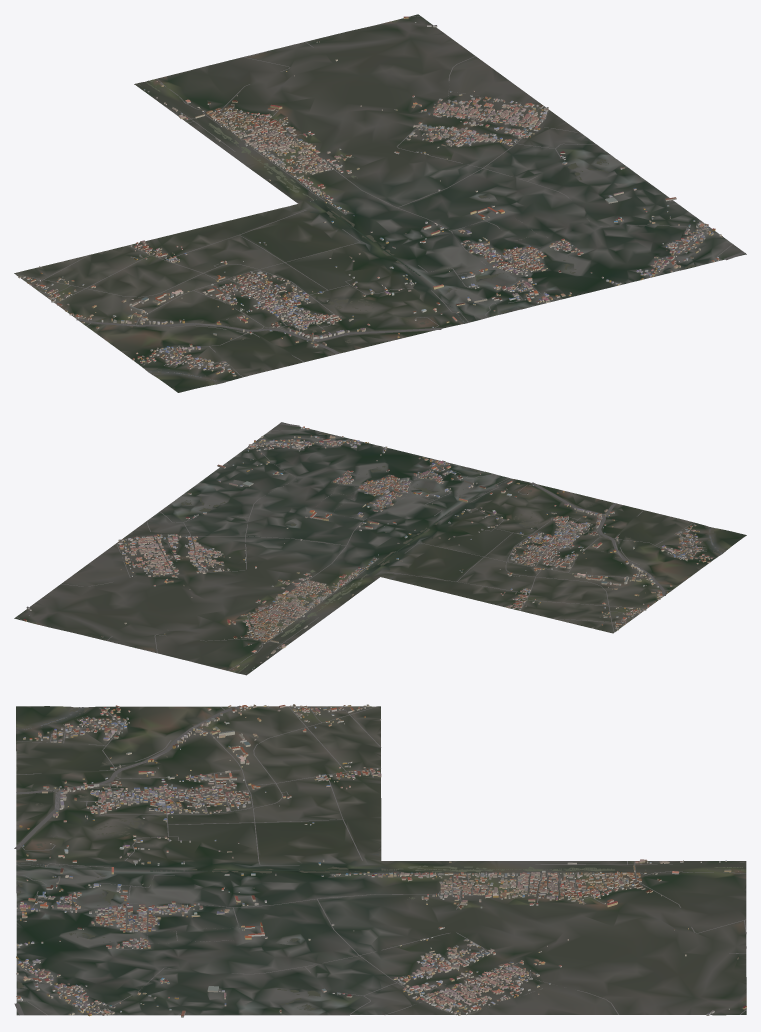
3 views of the same model, one above another, from view 1: azimuth 30°, elevation 25°; view 2: azimuth 150°, elevation 25°; view 3: azimuth 270°, elevation 25° (orthographic). The views are drawn at different scales.
Visible parts, largest first — view 1: ground, buildings, roads, water; view 2: ground, buildings, roads, water; view 3: ground, buildings, roads, water.
Part boxes in pixels (box(x1,y1,x2,y2)): ground: box(14, 14, 746, 392); buildings: box(18, 16, 722, 376); roads: box(15, 16, 745, 377); water: box(146, 22, 696, 383); ground: box(14, 422, 746, 675); buildings: box(23, 426, 712, 669); roads: box(16, 422, 713, 674); water: box(36, 432, 723, 672); ground: box(16, 706, 746, 1015); buildings: box(16, 704, 746, 1017); roads: box(14, 705, 746, 1015); water: box(17, 707, 743, 1014).
Size of the model in its own units: 2835 by 28.2 by 2816.
